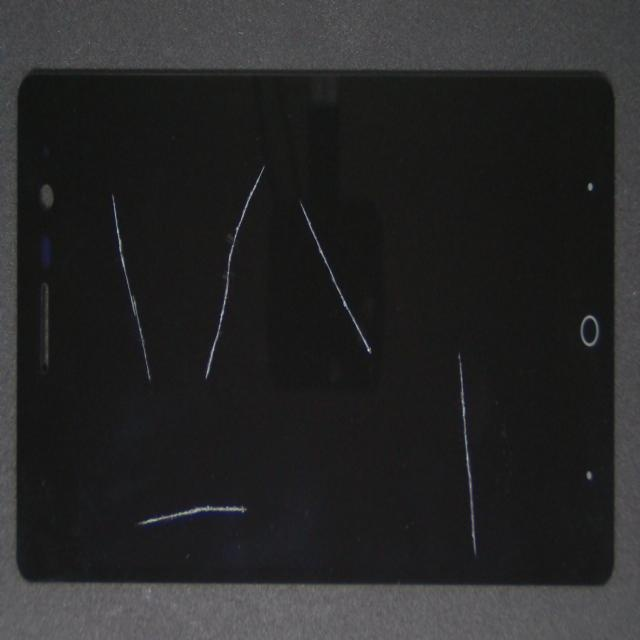scratch: (108, 21, 468, 386)
